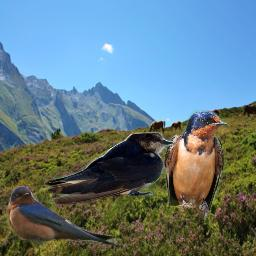Swallow: (44, 132, 174, 205), (6, 186, 128, 248), (164, 110, 228, 220)
